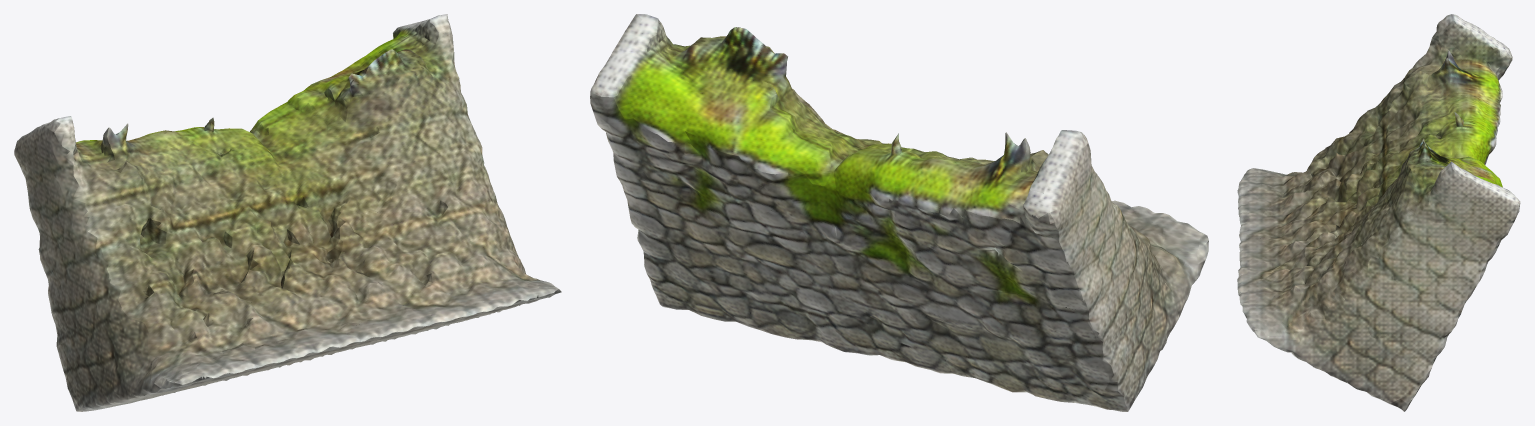
File: stone_moss.glb
3 views of the same model, side by side, from view 1: azimuth 30°, elevation 25°; view 2: azimuth 150°, elevation 25°; view 3: azimuth 270°, elevation 25° (orthographic). The views are drawn at different scales.
Parts seen in each view (by area): view 1: world; view 2: world; view 3: world.
Part boxes in pixels (<box>): world: <box>14,14,561,411</box>; world: <box>590,14,1208,411</box>; world: <box>1237,14,1520,411</box>.
Bounding box in the file's own units: 0.8589 × 0.559 × 0.5901.
Materials: 1 (1 with a texture image).
